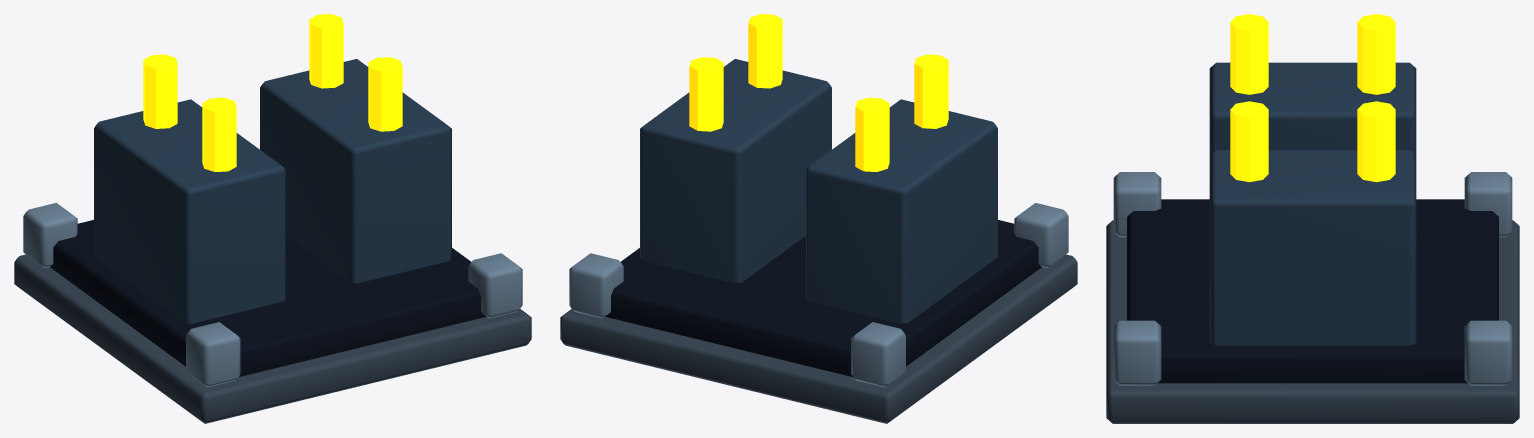
File: substation.glb
3 renders of one model, left to right at view 1: azimuth 30°, elevation 25°; view 2: azimuth 150°, elevation 25°; view 3: azimuth 270°, elevation 25°, orthographic. The views are drawn at different scales.
Parts seen in each view (by area): view 1: Transformer, Transformer.001, Undercarriage, Foundation, Corner lock.001, Corner lock.003, Insulator.003, Insulator.002, Insulator, Insulator.001, Corner lock; view 2: Transformer, Transformer.001, Undercarriage, Foundation, Corner lock, Corner lock.002, Insulator.002, Insulator.003, Insulator.001, Insulator, Corner lock.001; view 3: Transformer.001, Undercarriage, Foundation, Transformer, Corner lock.002, Corner lock.003, Insulator.002, Insulator.003, Insulator, Insulator.001, Corner lock, Corner lock.001.
Boxes of the visible parts, x1,y1,x2,y2 form: Transformer: (94, 99, 285, 323); Transformer.001: (260, 59, 451, 283); Undercarriage: (50, 220, 486, 376); Foundation: (14, 254, 531, 423); Corner lock.001: (186, 322, 240, 387); Corner lock.003: (468, 253, 522, 318); Insulator.003: (368, 57, 402, 131); Insulator.002: (309, 14, 343, 88); Insulator: (143, 54, 177, 128); Insulator.001: (202, 97, 236, 171); Corner lock: (23, 203, 77, 267); Transformer: (806, 99, 997, 323); Transformer.001: (640, 59, 831, 283); Undercarriage: (605, 220, 1041, 376); Foundation: (560, 254, 1077, 423); Corner lock: (851, 322, 905, 387); Corner lock.002: (569, 253, 623, 318); Insulator.002: (689, 57, 723, 131); Insulator.003: (748, 14, 782, 88); Insulator.001: (914, 54, 948, 128); Insulator: (855, 97, 889, 171); Corner lock.001: (1014, 203, 1068, 267); Transformer.001: (1209, 150, 1416, 345); Undercarriage: (1127, 199, 1498, 383); Foundation: (1106, 220, 1519, 423); Transformer: (1209, 62, 1416, 155); Corner lock.002: (1464, 320, 1512, 385); Corner lock.003: (1113, 320, 1161, 385); Insulator.002: (1357, 101, 1395, 182); Insulator.003: (1230, 101, 1268, 182); Insulator: (1357, 14, 1395, 94); Insulator.001: (1230, 14, 1268, 94); Corner lock: (1464, 172, 1512, 237); Corner lock.001: (1113, 172, 1161, 237).
Bounding box in the file's own units: 2.6 × 1.9 × 2.6.
